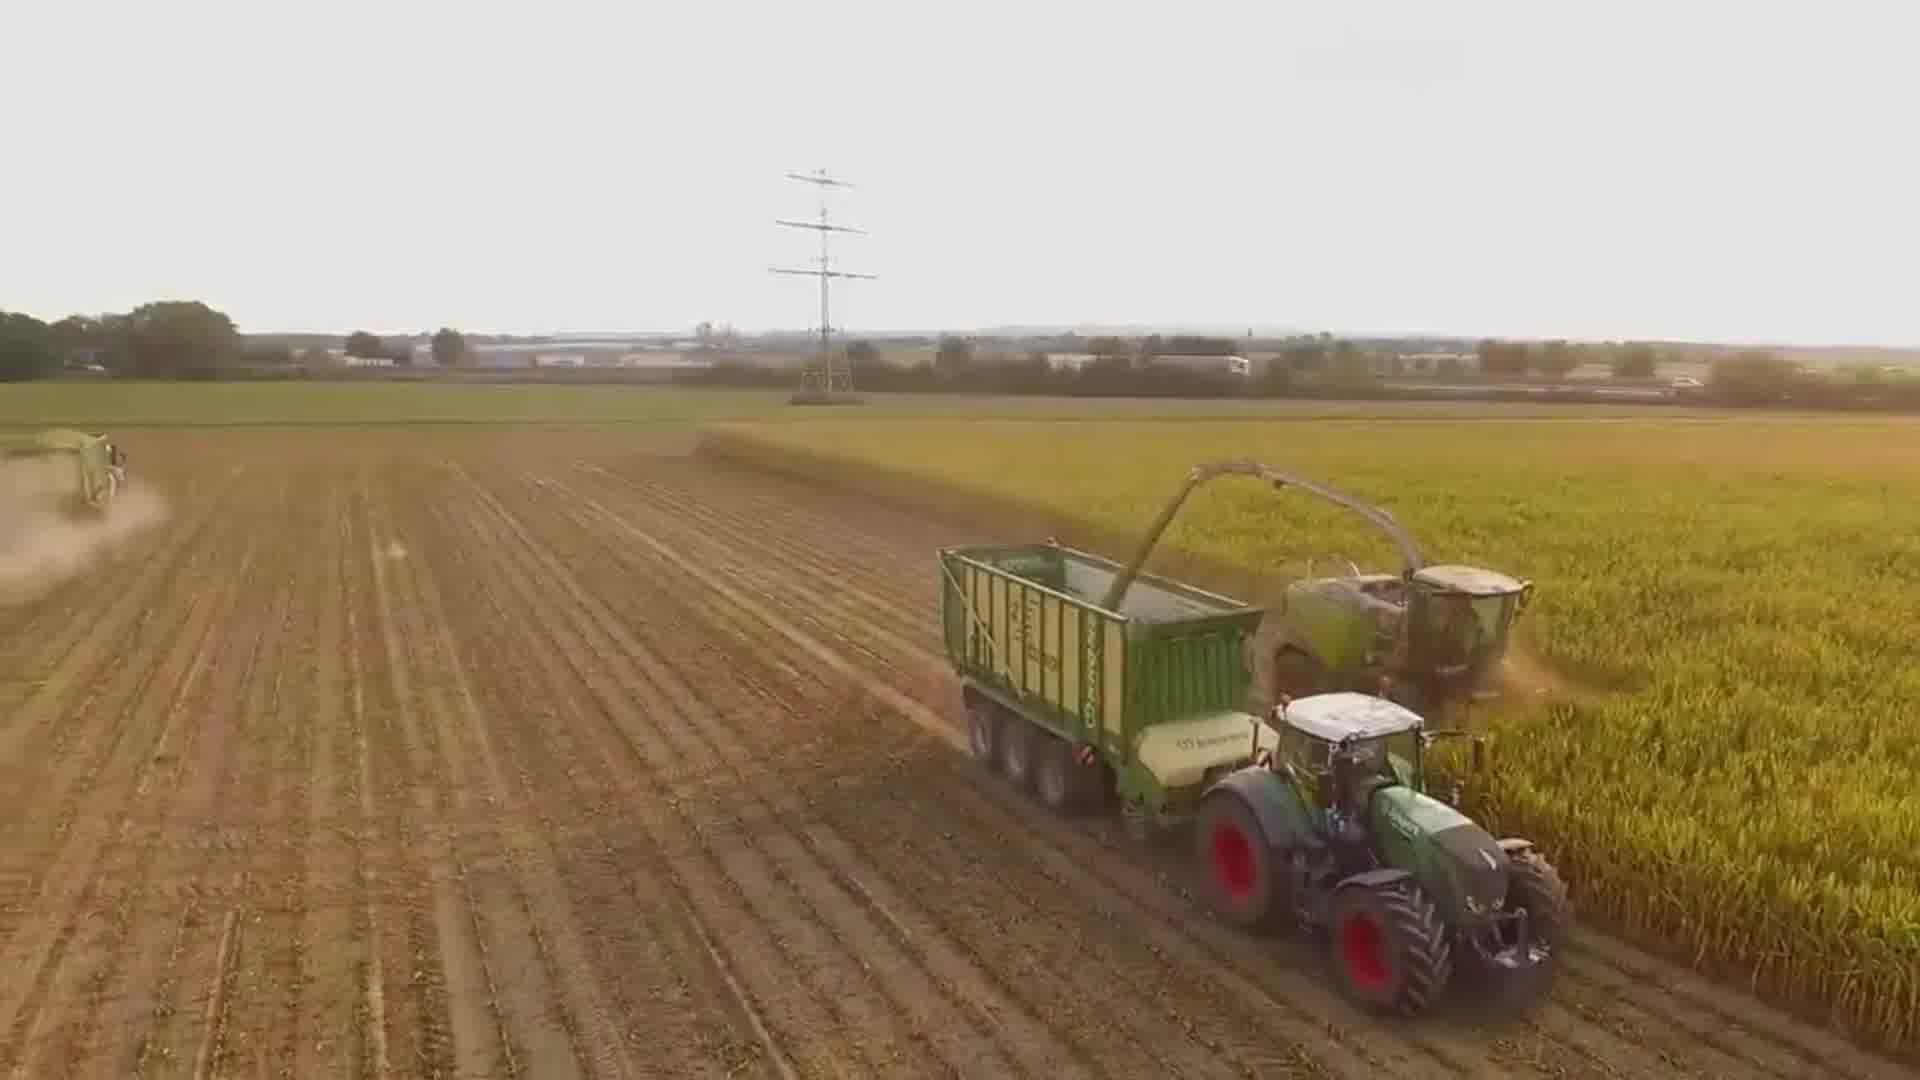combine harvester: (1183, 451, 1578, 774)
tractor: (1183, 680, 1586, 1022)
trailer: (928, 530, 1279, 849), (0, 427, 121, 553)
